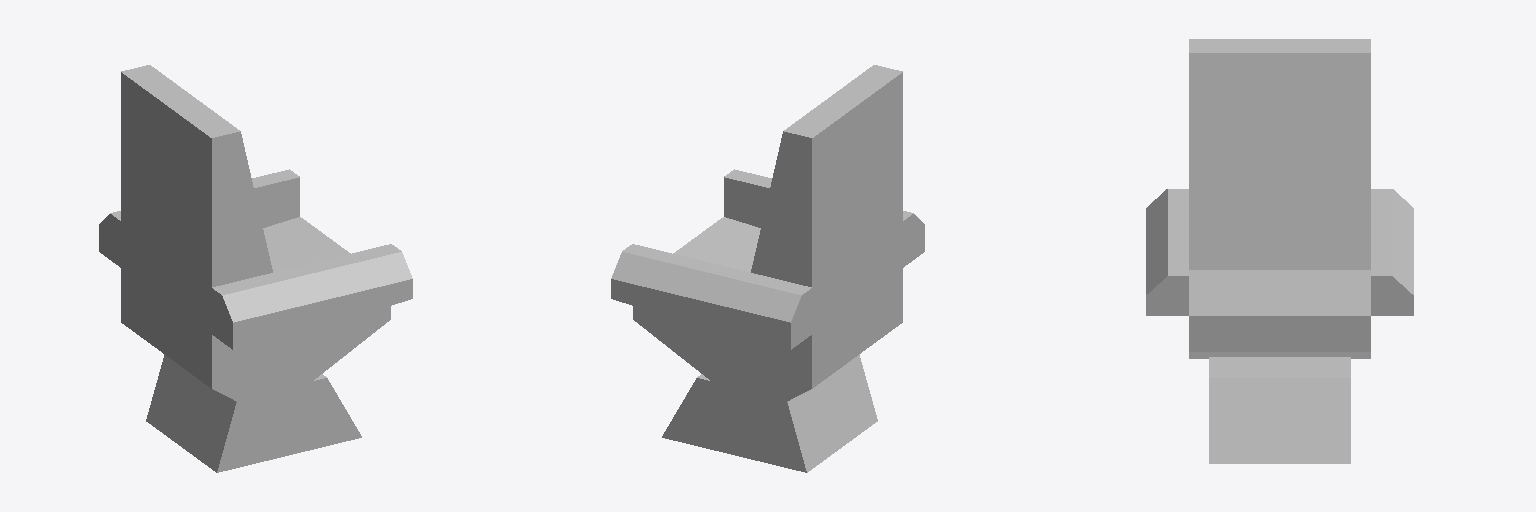
File: spaceInterior_024.obj
3 renders of one model, left to right at view 1: azimuth 30°, elevation 25°; view 2: azimuth 150°, elevation 25°; view 3: azimuth 270°, elevation 25°, orthographic.
Parts seen in each view (by area): view 1: Mesh1 Group1 Model; view 2: Mesh1 Group1 Model; view 3: Mesh1 Group1 Model.
Boxes of the visible parts, x1=… form: Mesh1 Group1 Model: x1=99, y1=65, x2=412, y2=472; Mesh1 Group1 Model: x1=611, y1=65, x2=924, y2=472; Mesh1 Group1 Model: x1=1146, y1=39, x2=1413, y2=463.
Size of the model in its own units: 0.2911 by 0.5348 by 0.3753.